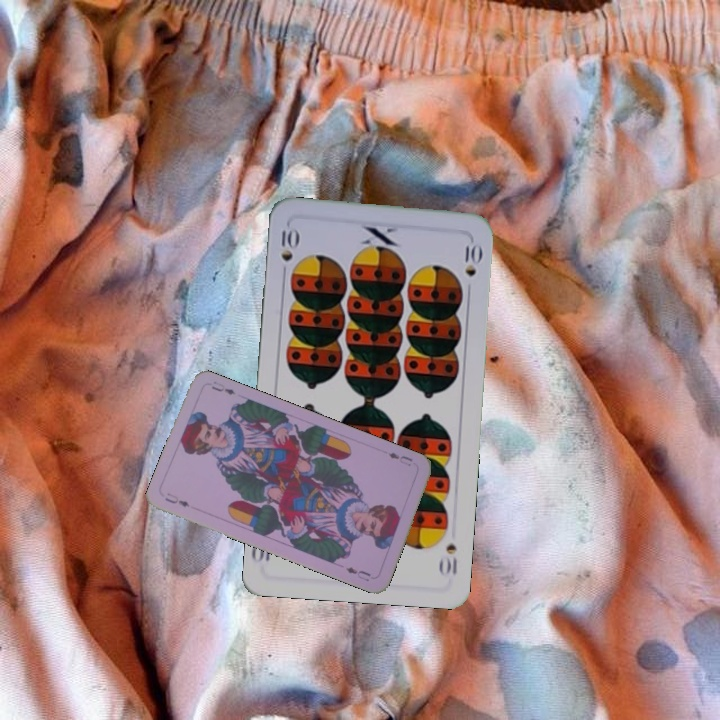EU: (161, 489, 192, 510), (384, 448, 415, 468)
S10: (277, 224, 300, 280), (436, 539, 460, 578)
